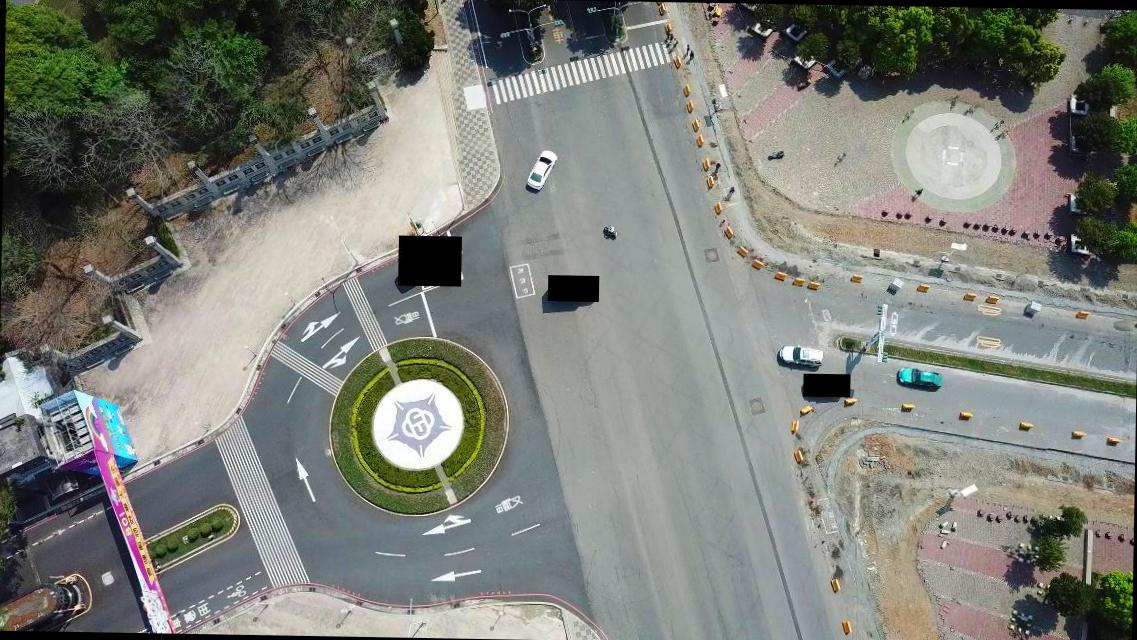vehicle: (527, 149, 557, 190), (897, 366, 943, 388), (780, 344, 824, 366)
